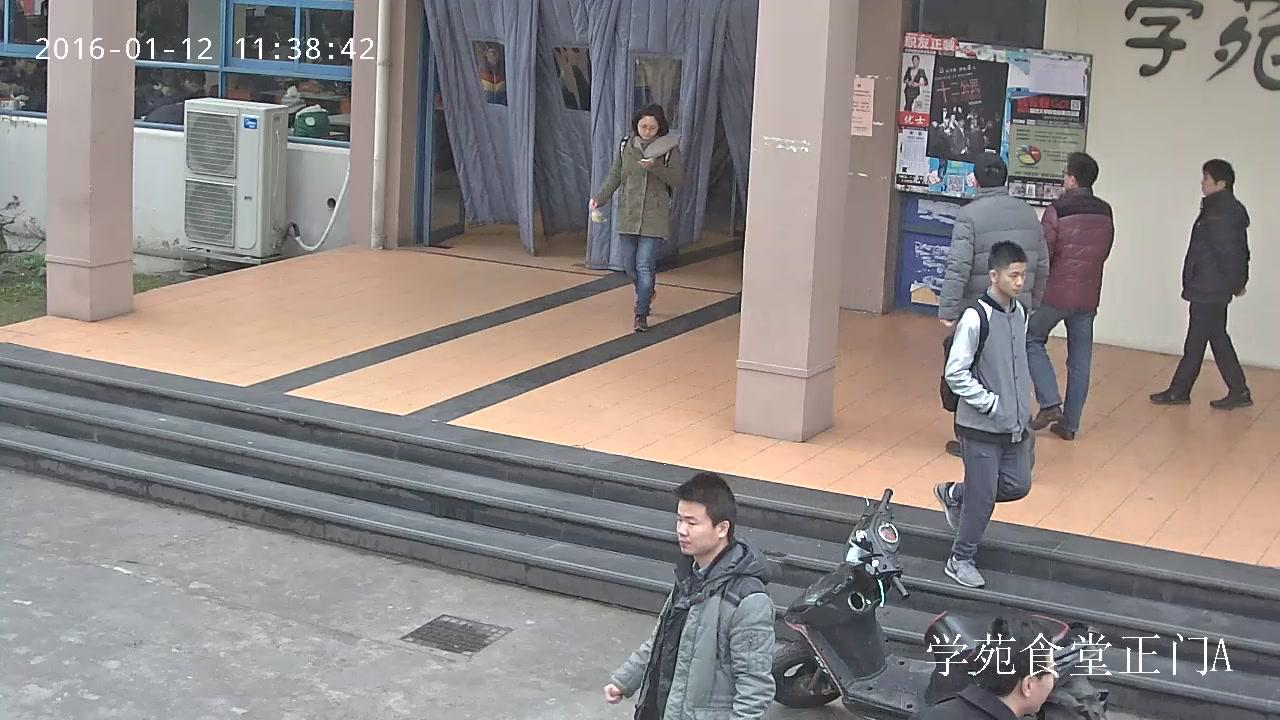person: (604, 472, 776, 718), (931, 239, 1035, 589), (938, 152, 1049, 467), (1147, 159, 1253, 408), (1029, 151, 1114, 441), (587, 101, 685, 333), (922, 618, 1061, 720), (279, 83, 331, 137), (469, 41, 507, 106), (138, 76, 182, 123), (902, 54, 928, 111)
